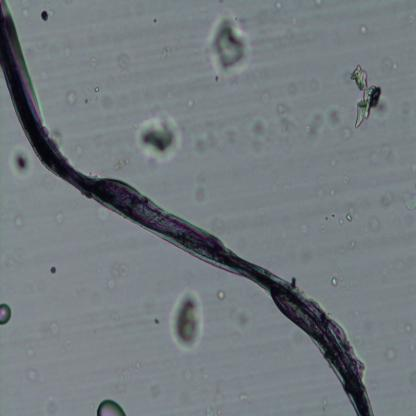Air bubble: (98, 397, 126, 416), (0, 303, 14, 327)
Background material: (196, 12, 258, 89), (338, 60, 383, 137), (134, 106, 188, 166), (167, 286, 212, 354), (301, 92, 346, 142), (7, 141, 37, 181), (195, 128, 226, 158), (248, 118, 272, 154), (104, 260, 127, 294), (274, 94, 292, 137), (369, 137, 397, 164), (189, 170, 209, 204), (35, 3, 59, 28), (109, 52, 132, 73), (233, 308, 252, 333), (371, 188, 393, 209), (90, 200, 112, 221), (156, 43, 178, 63), (23, 360, 40, 385), (62, 86, 80, 107), (366, 210, 383, 232), (9, 208, 24, 231), (204, 400, 224, 416), (258, 86, 272, 108), (212, 285, 229, 303), (39, 174, 55, 192), (148, 382, 165, 398), (383, 345, 399, 362), (99, 93, 114, 111), (85, 52, 101, 68), (357, 21, 372, 38), (404, 191, 416, 212), (313, 168, 326, 187), (112, 154, 128, 168), (59, 45, 74, 59), (328, 272, 341, 288), (180, 368, 196, 381), (72, 141, 84, 157), (237, 387, 248, 404), (47, 322, 60, 336), (343, 209, 354, 225), (45, 262, 56, 277), (403, 15, 416, 27), (131, 358, 141, 373), (340, 172, 350, 187), (54, 210, 65, 222), (297, 223, 309, 234), (25, 347, 37, 356), (327, 187, 336, 198), (272, 2, 282, 11), (93, 86, 101, 94), (350, 239, 356, 249)
Cotton: (0, 5, 374, 416)
